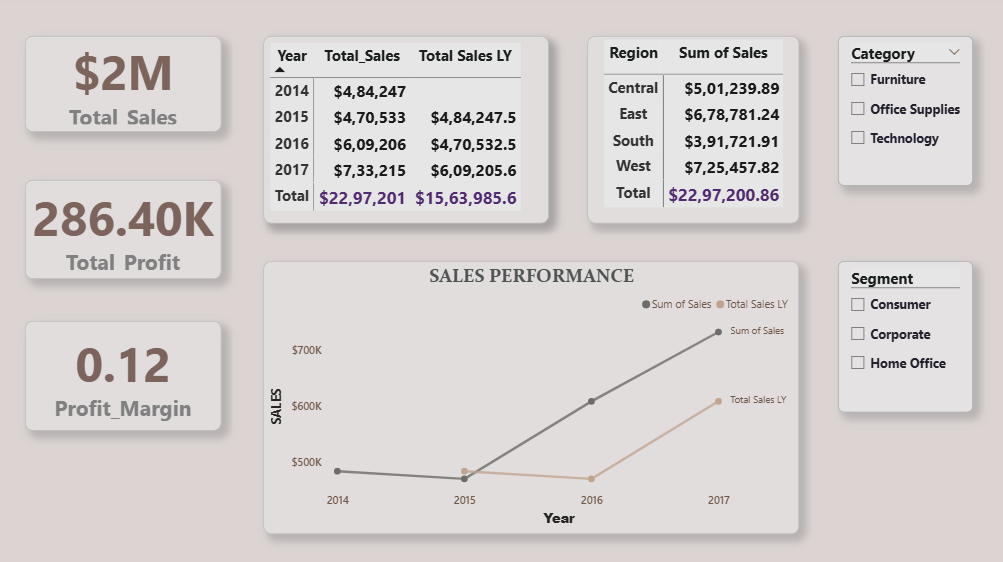

The dashboard page shown, as its layout file describes it:
{"tool":"powerbi","page":{"name":"Sales Performance","canvas":[1280,720],"ordinal":0},"visuals":[{"type":"card","fields":{"Values":["Measures_table.Total_Sales"]},"box":[34,79.4,162.5,92.6],"z":0},{"type":"card","fields":{"Values":["Measures_table.Total_Profit"]},"box":[34,313.7,162.5,98.3],"z":1000},{"type":"card","fields":{"Values":["Measures_table.Profit_Margin"]},"box":[34,196.5,162.5,94.5],"z":2000},{"type":"lineChart","title":"SALES PERFORMANCE","fields":{"Y":["Sum(Fact_Sales.Sales)","Measures_table.Total Sales LY"],"Category":["Dim_Date.Year"]},"box":[701.1,79.4,546.1,302.4],"z":3000},{"type":"pivotTable","fields":{"Values":["Sum(Fact_Sales.Sales)"],"Rows":["Dim_Region.Region"]},"box":[34,447.9,266.5,236.2],"z":4000},{"type":"pivotTable","fields":{"Values":["Measures_table.Total_Sales","Measures_table.Total Sales LY","Measures_table.Growth %"],"Rows":["Dim_Date.Year"]},"box":[226.8,79.4,438.4,234.3],"z":5000},{"type":"slicer","title":"CATEGORY","fields":{"Values":["Dim_Product.Category"]},"box":[895.8,404.4,351.5,126.6],"z":6000},{"type":"slicer","fields":{"Values":["Dim_Customer.Segment"]},"box":[895.8,566.9,351.5,117.2],"z":7000},{"type":"clusteredColumnChart","title":"Quarterly Analysis of Sales","fields":{"Y":["Measures_table.Total_Sales"],"Category":["Dim_Date.Quarter"]},"box":[345.8,404.4,502.7,279.7],"z":7001}]}

Visuals, with their boxes in screenshot pixels (x1, y1, x2, y2), scaled from the page's 1280x720 canvas onto the 1003x562 screenshot:
card - Measures_table.Total_Sales: [27,62,154,134]
card - Measures_table.Total_Profit: [27,245,154,322]
card - Measures_table.Profit_Margin: [27,153,154,227]
"SALES PERFORMANCE" lineChart: [549,62,977,298]
pivotTable - Sum(Fact_Sales.Sales) x Dim_Region.Region: [27,350,235,534]
pivotTable - Measures_table.Total_Sales x Measures_table.Total Sales LY: [178,62,521,245]
"CATEGORY" slicer: [702,316,977,414]
slicer - Dim_Customer.Segment: [702,442,977,534]
"Quarterly Analysis of Sales" clusteredColumnChart: [271,316,665,534]
